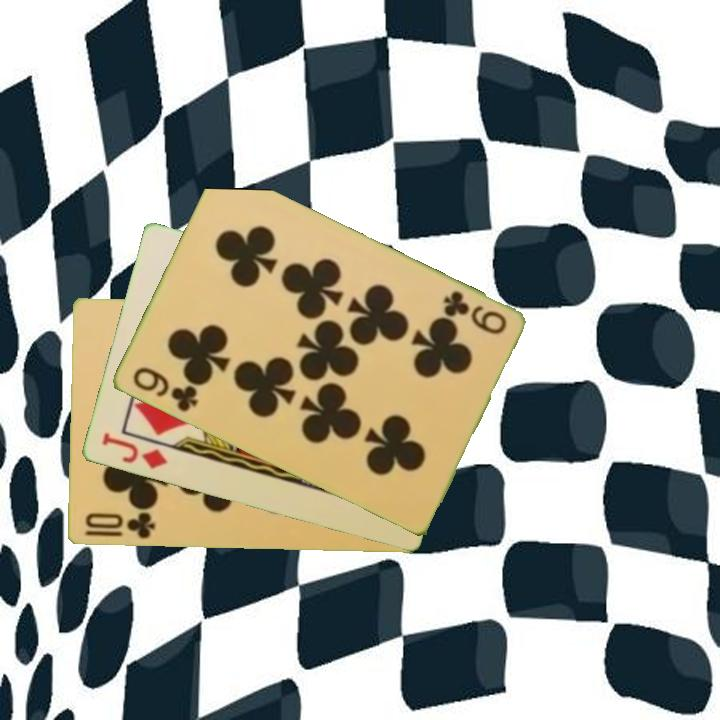10c: (82, 509, 158, 542)
9c: (128, 363, 200, 415), (439, 287, 509, 338)
Jd: (98, 430, 171, 472)
